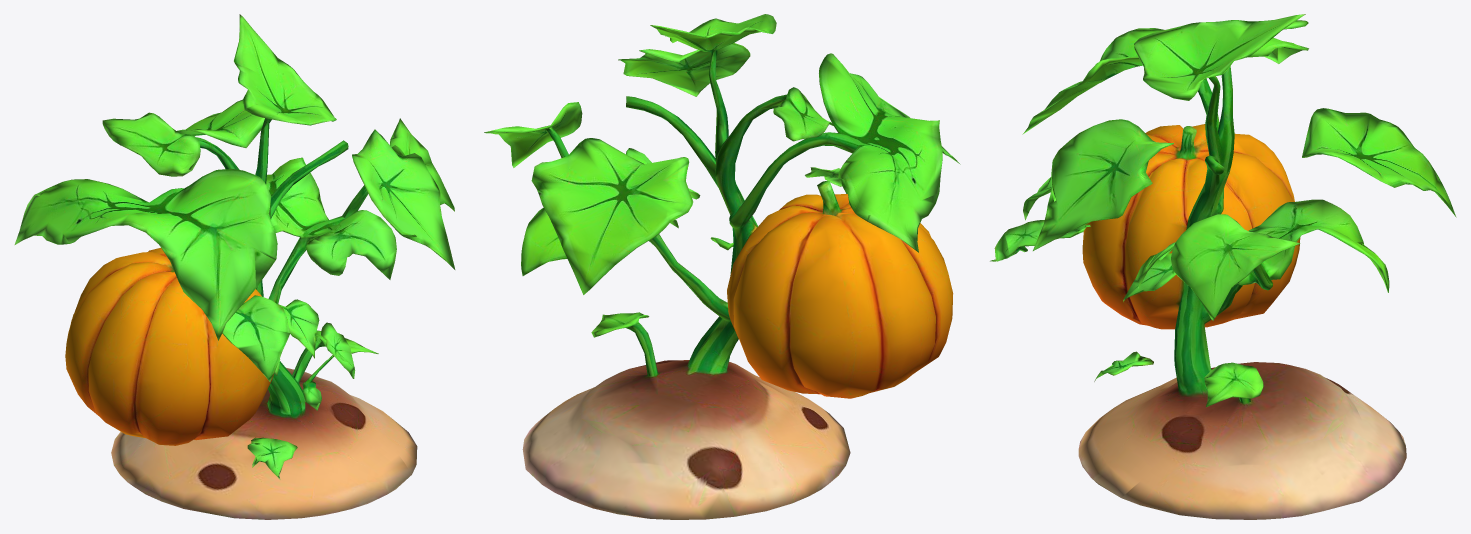
File: pumpkin.glb
The picture shows the model from 3 angles, left to right: view 1: azimuth 30°, elevation 25°; view 2: azimuth 150°, elevation 25°; view 3: azimuth 270°, elevation 25°; orthographic projection. The views are drawn at different scales.
Size of the model in its own units: 1.9 by 1.85 by 1.78.
Materials: 1 (1 with a texture image).
